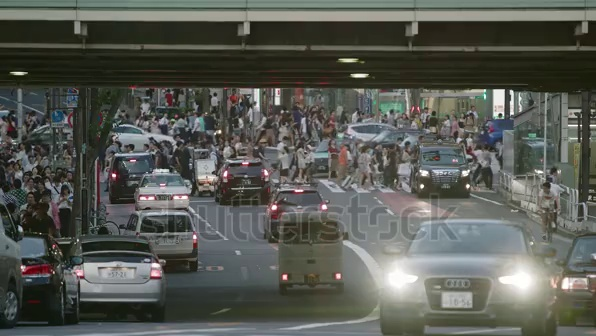licenseplate: (442, 294, 474, 307)
